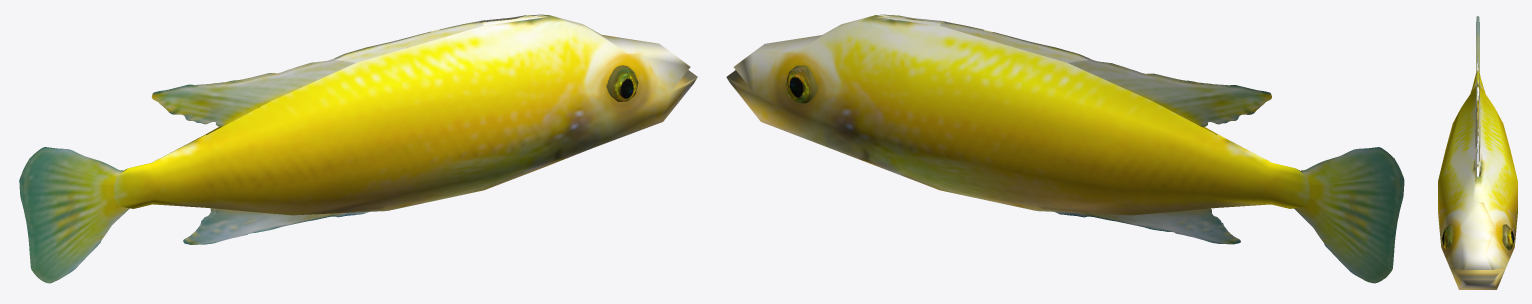
Rendered from Fish-1.fbx.
3 views of the same model, side by side, from view 1: azimuth 30°, elevation 25°; view 2: azimuth 150°, elevation 25°; view 3: azimuth 270°, elevation 25° (orthographic). The views are drawn at different scales.
Visible parts, largest first — view 1: Cube; view 2: Cube; view 3: Cube.
Part boxes in pixels (x1,y1,x2,y2): Cube: [19, 14, 697, 283]; Cube: [726, 14, 1404, 283]; Cube: [1438, 16, 1517, 289].
Size of the model in its own units: 13.27 by 3.53 by 2.03.
3 materials, 3 textured.
